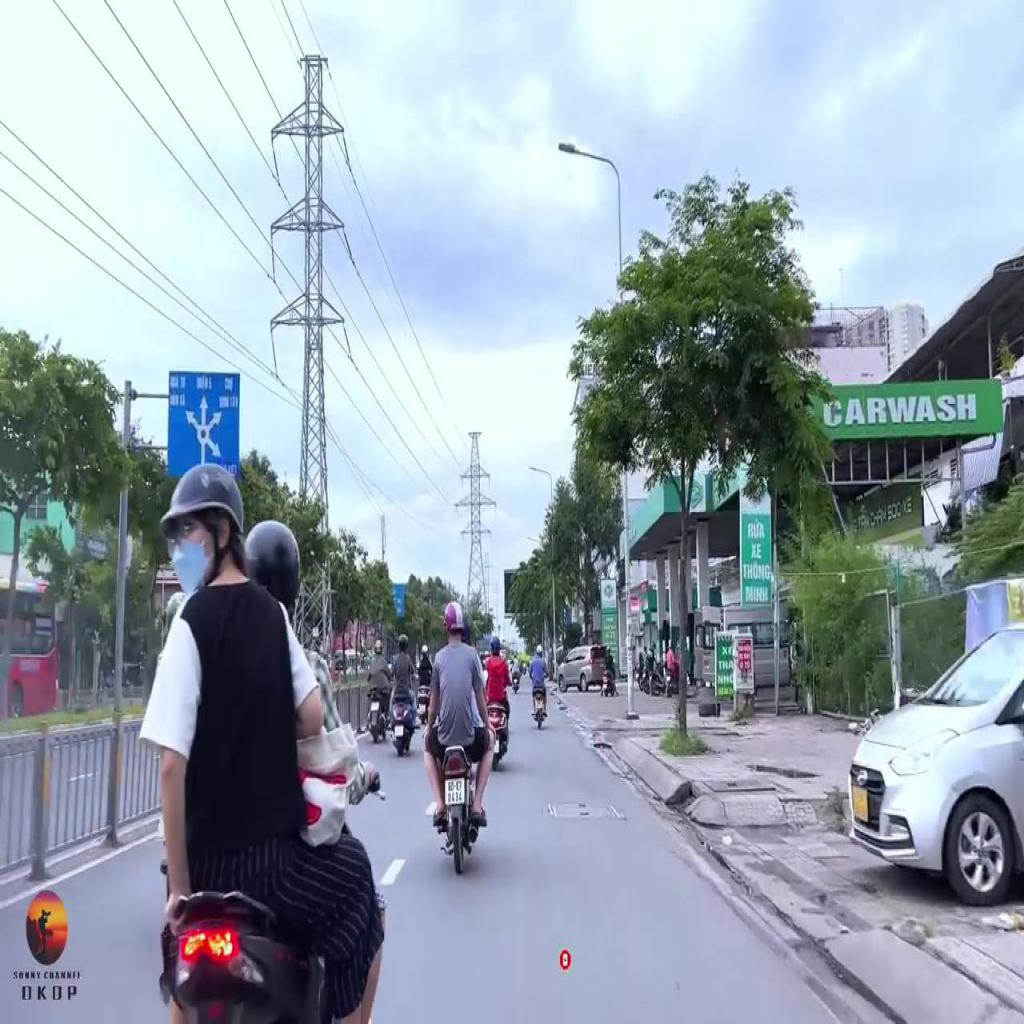khac: (165, 371, 239, 481)
